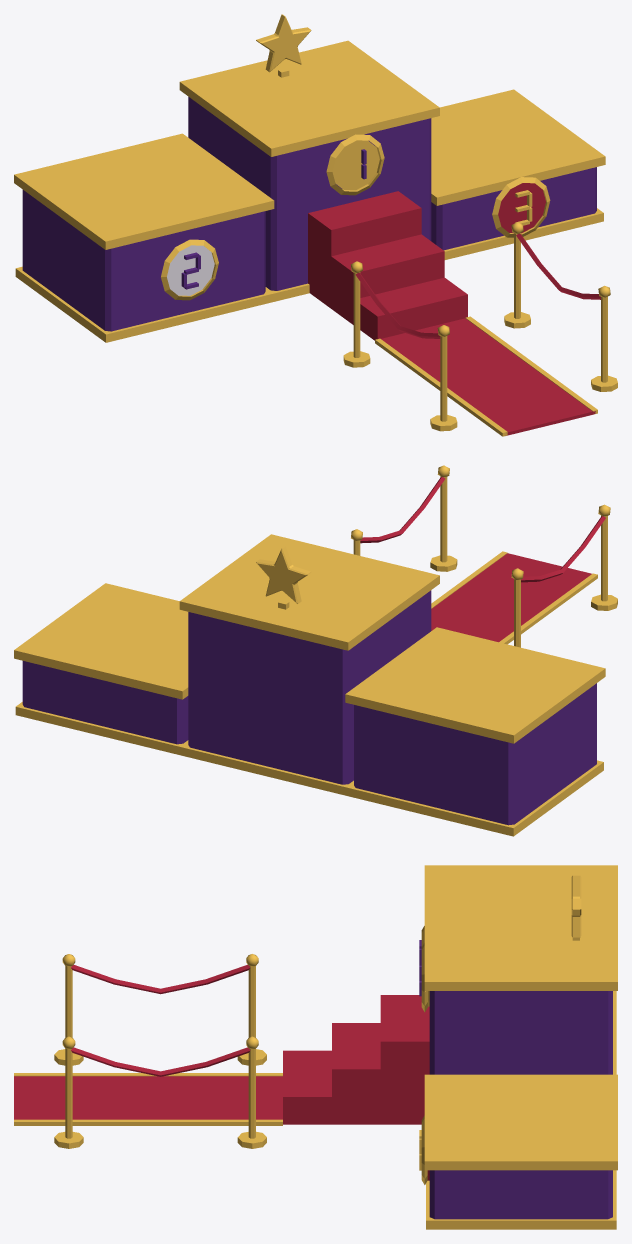
The model's file is stage_podium.glb.
The picture shows the model from 3 angles, top to bottom: view 1: azimuth 30°, elevation 25°; view 2: azimuth 150°, elevation 25°; view 3: azimuth 270°, elevation 25°; orthographic projection. The views are drawn at different scales.
Visible parts, largest first — view 1: stage_podium; view 2: stage_podium; view 3: stage_podium.
Part boxes in pixels (x1,y1,x2,y2): stage_podium: [14, 14, 617, 436]; stage_podium: [14, 465, 617, 836]; stage_podium: [14, 865, 617, 1229].
Bounding box in the file's own units: 4.98 × 2.04 × 4.94.
